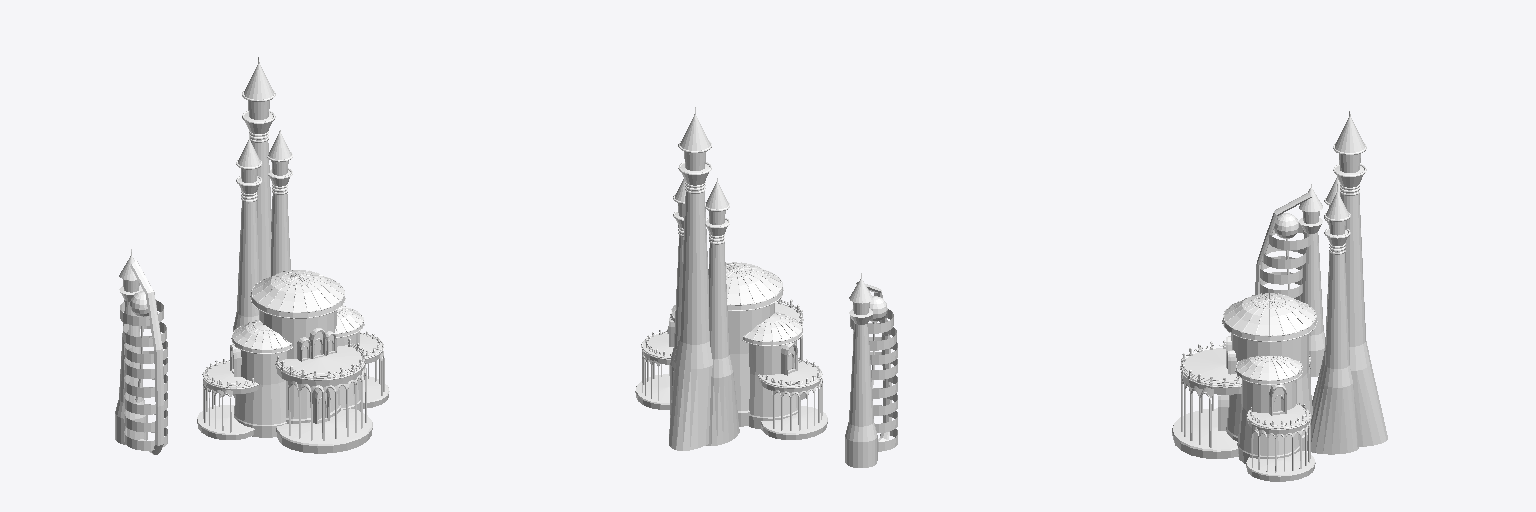
The model's file is castle-part-one.obj.
3 renders of one model, left to right at view 1: azimuth 30°, elevation 25°; view 2: azimuth 150°, elevation 25°; view 3: azimuth 270°, elevation 25°, orthographic.
Visible parts, largest first — view 1: mesh01.001, castle_grp1, mesh01; view 2: mesh01.001, castle_grp1, mesh01; view 3: mesh01.001, castle_grp1, mesh01.
Part boxes in pixels (bbox=[...]): mesh01.001: bbox=[115, 57, 389, 454]; castle_grp1: bbox=[119, 64, 388, 443]; mesh01: bbox=[123, 100, 331, 423]; mesh01.001: bbox=[635, 107, 897, 467]; castle_grp1: bbox=[636, 115, 872, 432]; mesh01: bbox=[667, 151, 869, 418]; mesh01.001: bbox=[1172, 111, 1387, 481]; castle_grp1: bbox=[1173, 117, 1364, 474]; mesh01: bbox=[1216, 154, 1360, 460].
Bounding box in the file's own units: 277 × 349 × 203.